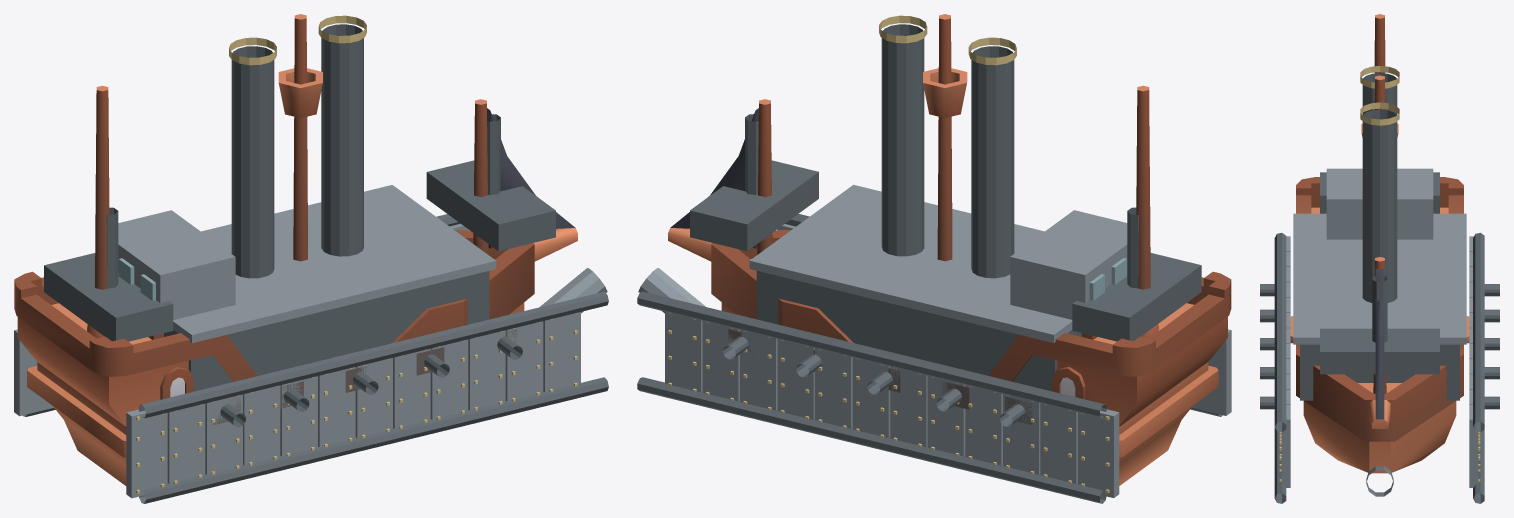
Rendered from ironclad_frigate-custom.glb.
The picture shows the model from 3 angles, left to right: view 1: azimuth 30°, elevation 25°; view 2: azimuth 150°, elevation 25°; view 3: azimuth 270°, elevation 25°; orthographic projection. The views are drawn at different scales.
Visible parts, largest first — view 1: ironclad_frigate-bespoke-components, ship-pirate-large; view 2: ironclad_frigate-bespoke-components, ship-pirate-large; view 3: ironclad_frigate-bespoke-components, ship-pirate-large.
Boxes of the visible parts, x1,y1,x2,y2 form: ironclad_frigate-bespoke-components: (14,15,608,503); ship-pirate-large: (14,14,577,485); ironclad_frigate-bespoke-components: (637,15,1231,503); ship-pirate-large: (668,14,1231,485); ironclad_frigate-bespoke-components: (1260,66,1499,503); ship-pirate-large: (1290,14,1469,473).
Bounding box in the file's own units: 49.22 × 35.37 × 22.29.
6 materials, 1 textured.
